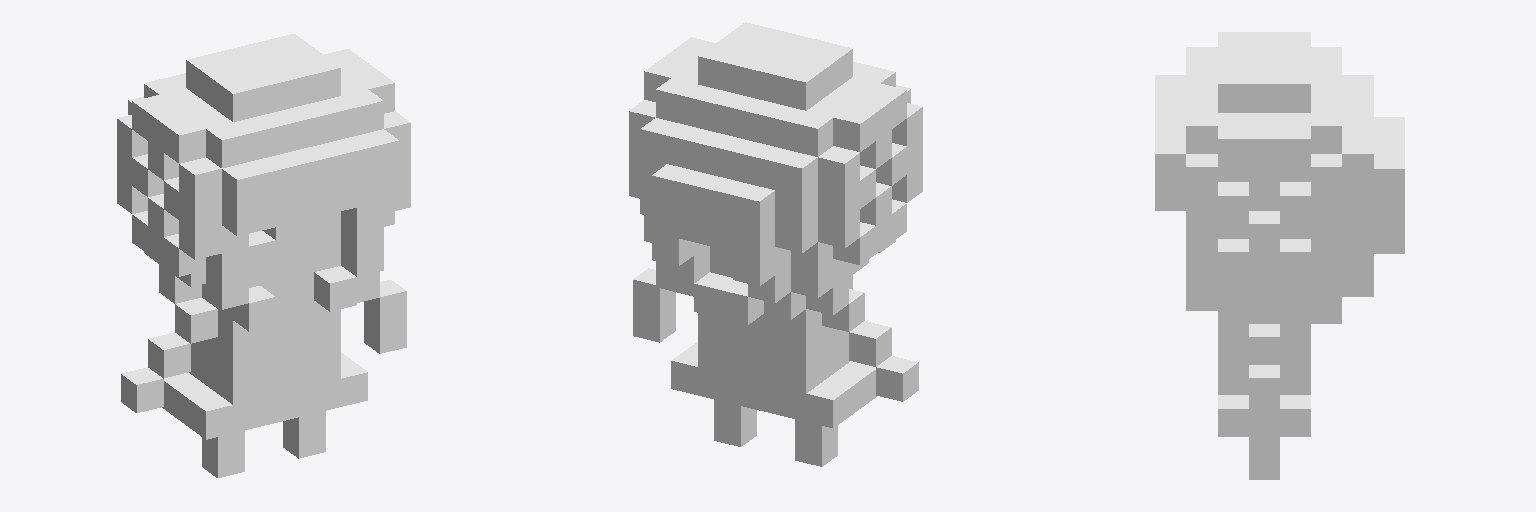
The model's file is Spotter_Body.obj.
3 views of the same model, side by side, from view 1: azimuth 30°, elevation 25°; view 2: azimuth 150°, elevation 25°; view 3: azimuth 270°, elevation 25° (orthographic).
Parts seen in each view (by area): view 1: object 1; view 2: object 1; view 3: object 1.
Boxes of the visible parts, box(x1,y1,x2,y2) form: object 1: box(117, 34, 410, 477); object 1: box(629, 22, 922, 466); object 1: box(1155, 32, 1404, 479).
Size of the model in its own units: 1 by 1.4 by 0.8.